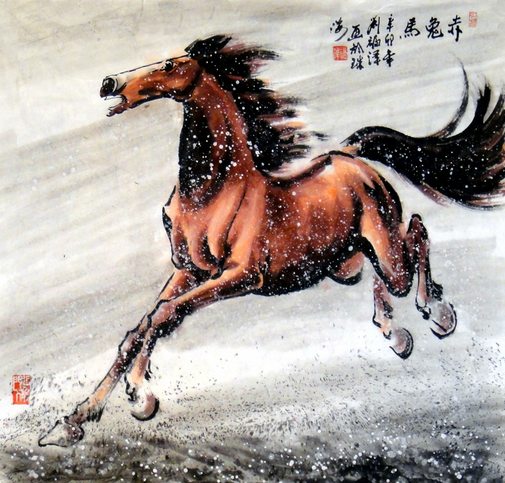background: (34, 22, 505, 453)
